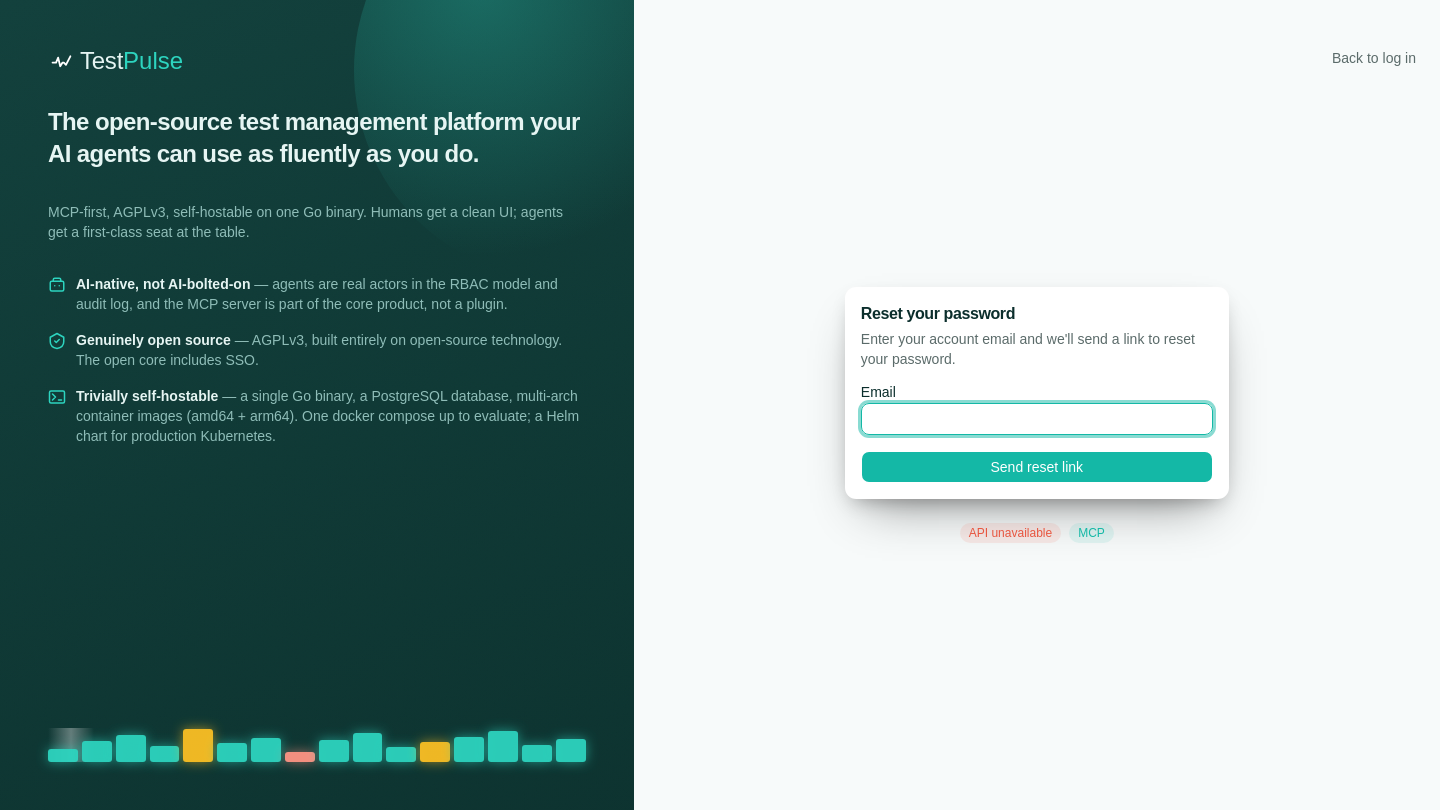
Test: ForgotPasswordPage › always shows the same confirmation, for a real or unknown email alike (server never leaks which)
Type "anyone@example.com" into the field labelled "Email" at (1037, 419), box [861, 403, 1213, 435]
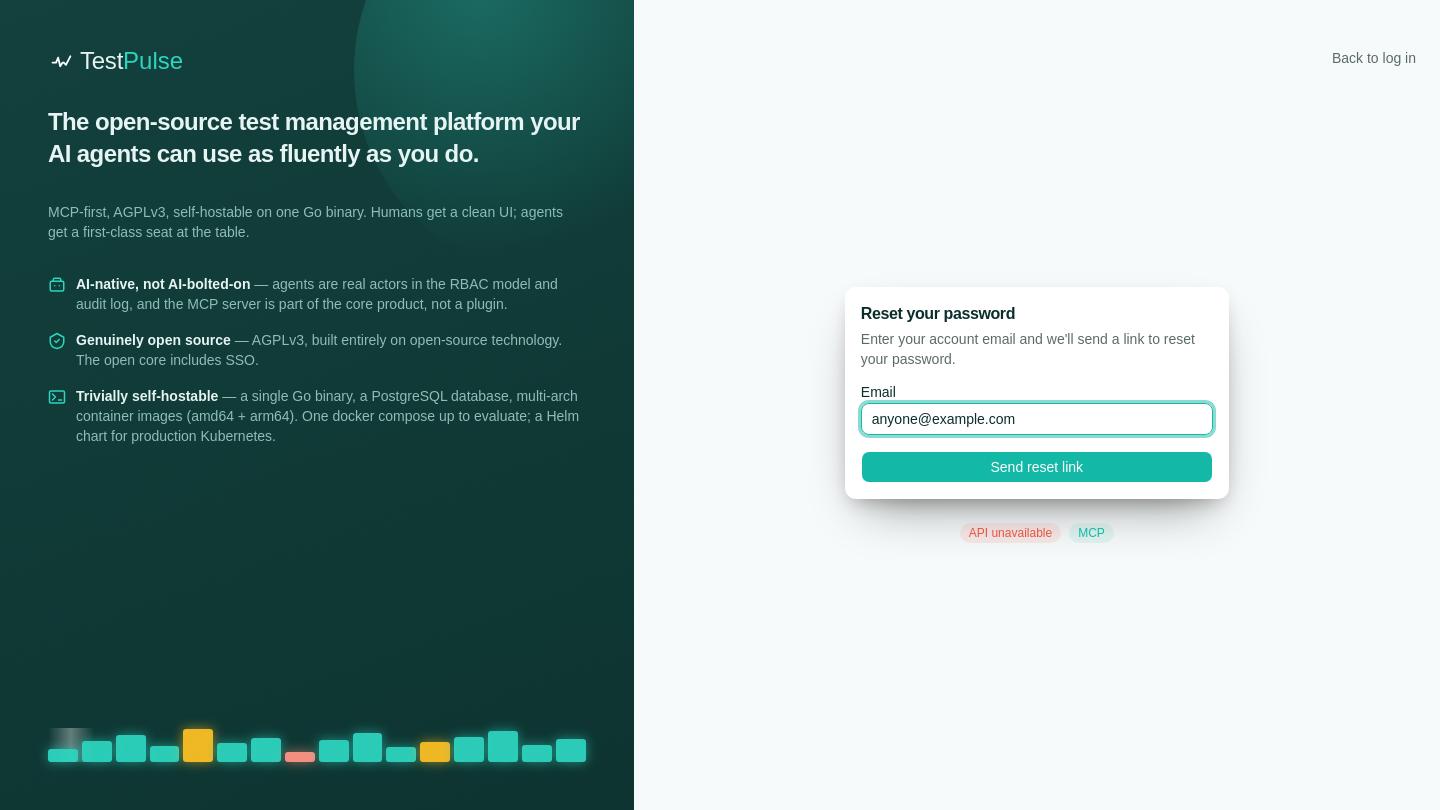
Click the button "Send reset link" at (1037, 467), box [861, 451, 1213, 483]
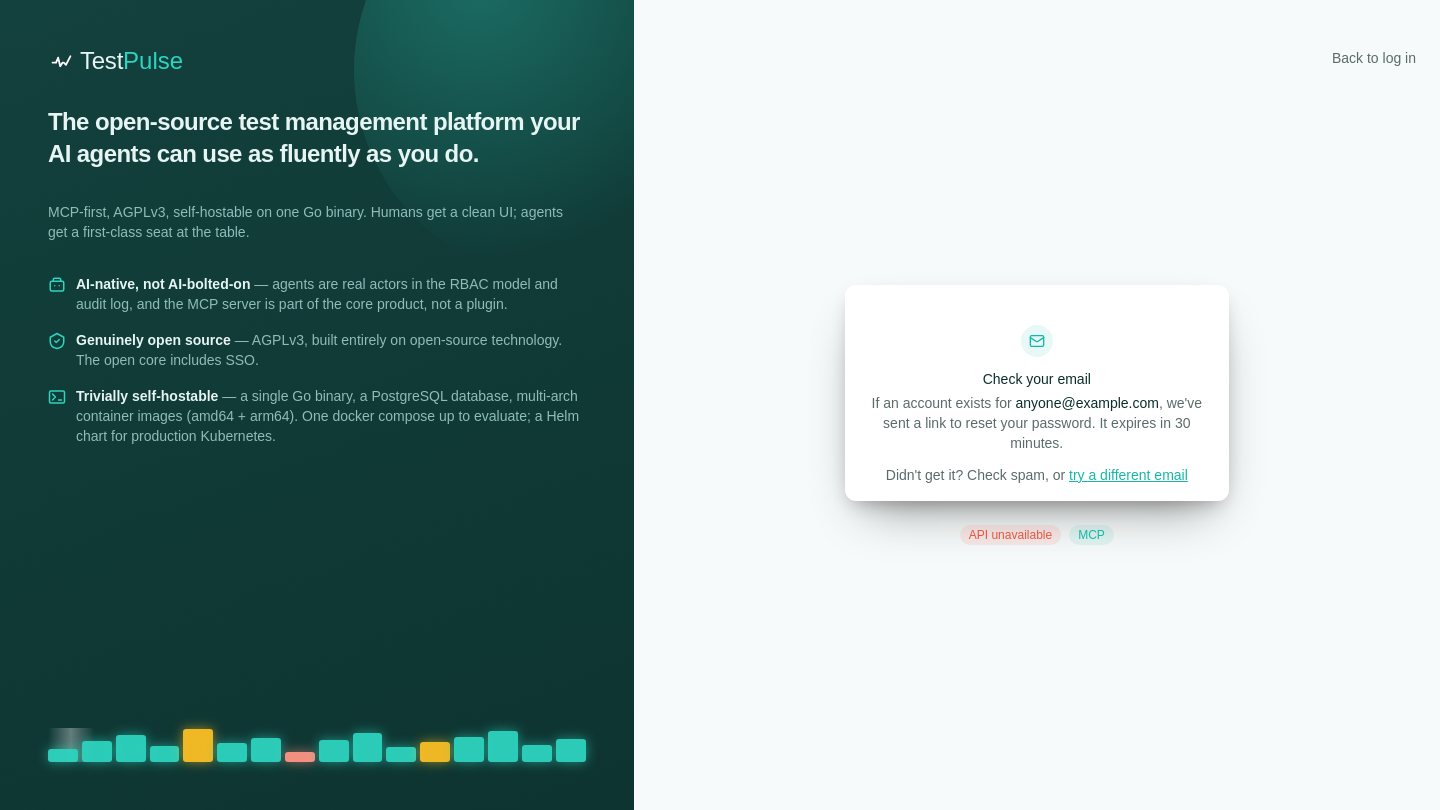
Expected: the text "Check your email" is shown, [983, 371, 1091, 387]
